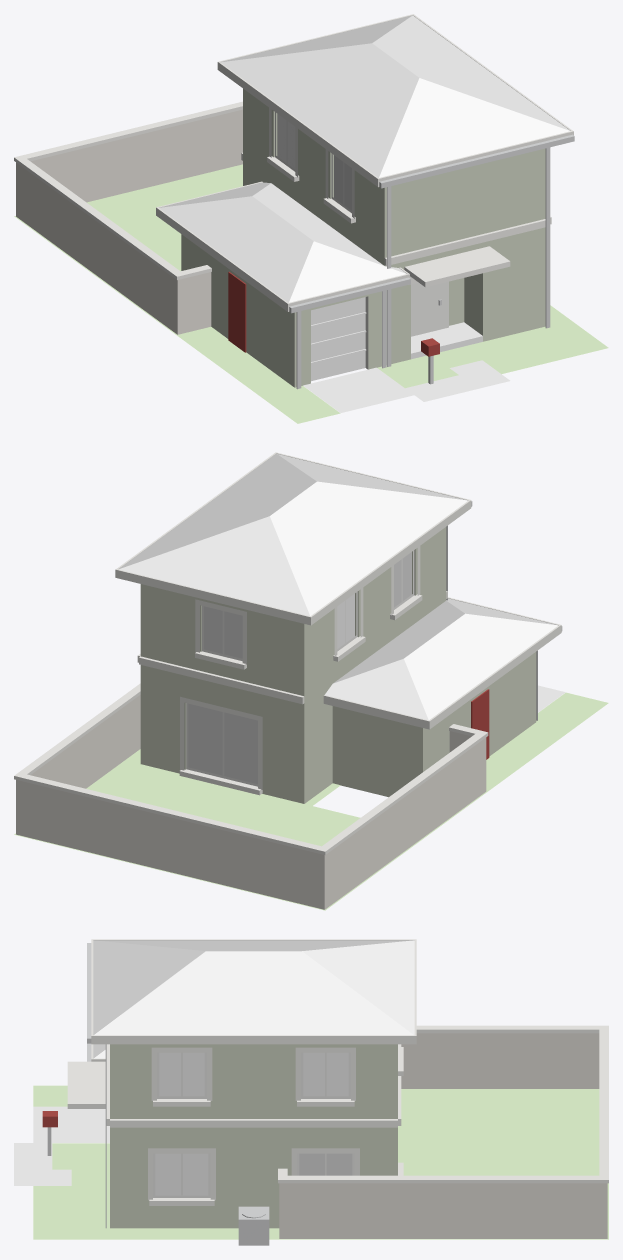
The model's file is house_spanish38.glb.
The picture shows the model from 3 angles, top to bottom: view 1: azimuth 30°, elevation 25°; view 2: azimuth 150°, elevation 25°; view 3: azimuth 270°, elevation 25°; orthographic projection.
Parts seen in each view (by area): view 1: house_spanish38_Roof, house_spanish38_Walls, house_spanish38_Walls2, house_spanish38_Lawn, house_spanish38_Trim, house_spanish38_Site, house_spanish38_Details, house_spanish38_Doors, house_spanish38_Frames, house_spanish38_Accent, house_spanish38_Glass, house_spanish38_WindowsLit; view 2: house_spanish38_Roof, house_spanish38_Walls, house_spanish38_Walls2, house_spanish38_Trim, house_spanish38_Lawn, house_spanish38_WindowsLit, house_spanish38_Frames, house_spanish38_Accent, house_spanish38_Glass; view 3: house_spanish38_Walls, house_spanish38_Roof, house_spanish38_Walls2, house_spanish38_Lawn, house_spanish38_Trim, house_spanish38_Glass, house_spanish38_Site, house_spanish38_Details, house_spanish38_Frames, house_spanish38_WindowsLit.
Boxes of the visible parts, x1,y1,x2,y2 form: house_spanish38_Roof: (159,15,570,302); house_spanish38_Walls: (181,88,545,387); house_spanish38_Walls2: (16,109,242,334); house_spanish38_Lawn: (14,164,608,423); house_spanish38_Trim: (14,14,573,369); house_spanish38_Site: (303,322,510,412); house_spanish38_Details: (289,134,574,389); house_spanish38_Doors: (311,297,366,381); house_spanish38_Frames: (275,112,448,336); house_spanish38_Accent: (228,271,439,356); house_spanish38_Glass: (277,114,295,168); house_spanish38_WindowsLit: (334,155,351,210); house_spanish38_Roof: (118,453,558,720); house_spanish38_Walls: (140,527,536,803); house_spanish38_Walls2: (16,695,486,909); house_spanish38_Trim: (14,452,561,854); house_spanish38_Lawn: (14,692,608,910); house_spanish38_WindowsLit: (188,552,411,784); house_spanish38_Frames: (186,550,414,786); house_spanish38_Accent: (471,689,489,759); house_spanish38_Glass: (337,593,354,648); house_spanish38_Walls: (110,1044,397,1228); house_spanish38_Roof: (93,940,414,1058); house_spanish38_Walls2: (279,1033,607,1238); house_spanish38_Lawn: (33,1085,608,1239); house_spanish38_Trim: (67,939,608,1205); house_spanish38_Glass: (155,1052,348,1195); house_spanish38_Site: (14,1106,109,1185); house_spanish38_Details: (47,943,269,1245); house_spanish38_Frames: (153,1052,354,1197); house_spanish38_WindowsLit: (299,1153,352,1175).
Size of the model in its own units: 39.45 by 27.25 by 62.
